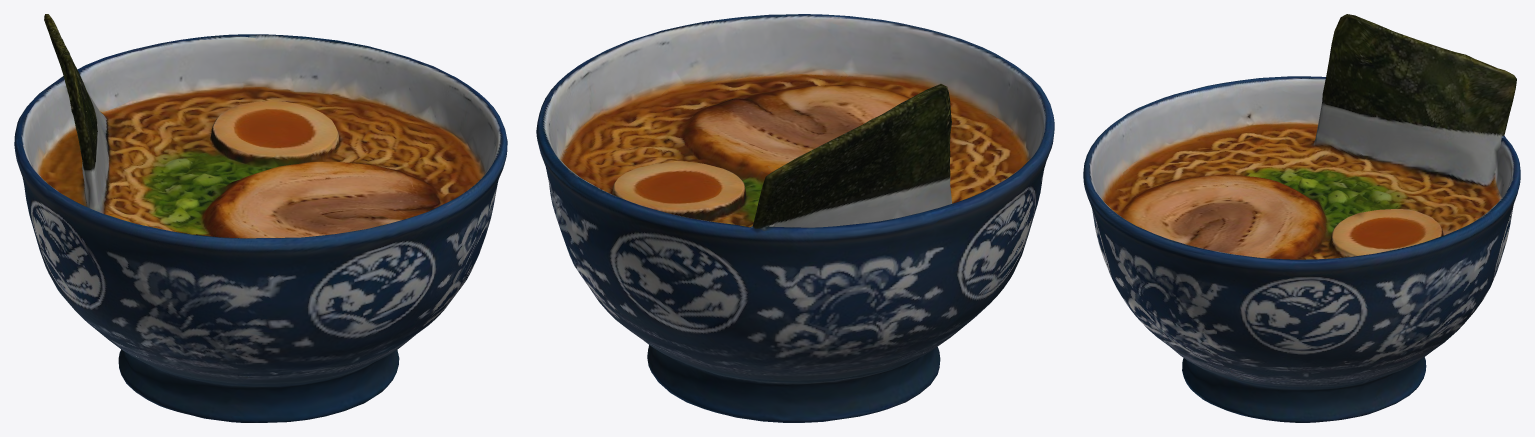
File: ramen.glb
The picture shows the model from 3 angles, left to right: view 1: azimuth 30°, elevation 25°; view 2: azimuth 150°, elevation 25°; view 3: azimuth 270°, elevation 25°; orthographic projection. The views are drawn at different scales.
Visible parts, largest first — view 1: tripo_node_b675a739-5b7b-4750-b3e4-ad36cb3498fb; view 2: tripo_node_b675a739-5b7b-4750-b3e4-ad36cb3498fb; view 3: tripo_node_b675a739-5b7b-4750-b3e4-ad36cb3498fb.
Part boxes in pixels (left/top/right/bottom): tripo_node_b675a739-5b7b-4750-b3e4-ad36cb3498fb: left=14, top=14, right=507, bottom=422; tripo_node_b675a739-5b7b-4750-b3e4-ad36cb3498fb: left=536, top=14, right=1054, bottom=422; tripo_node_b675a739-5b7b-4750-b3e4-ad36cb3498fb: left=1083, top=14, right=1520, bottom=422.
Size of the model in its own units: 1 by 0.7223 by 0.9973.
Materials: 1 (1 with a texture image).
